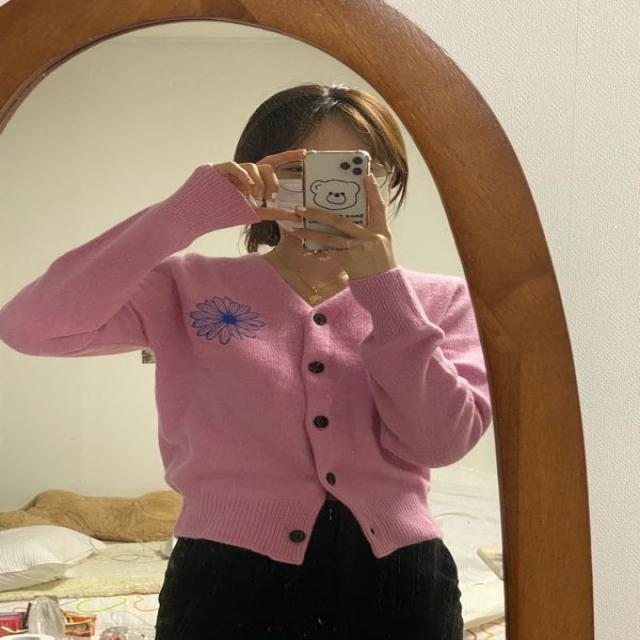cardigan: (0, 162, 491, 563)
